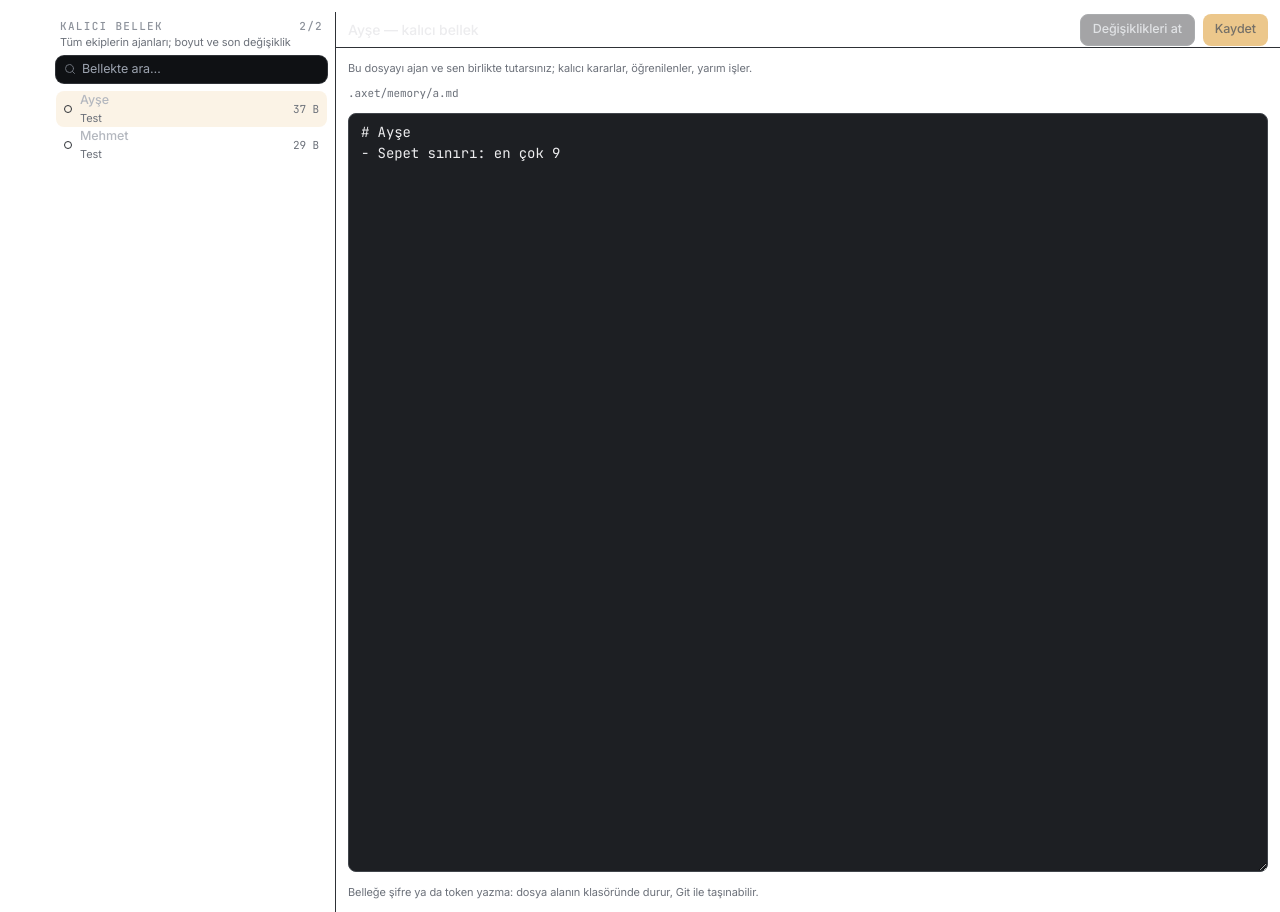
Test case: MemoryView › bellekte arama: eşleşen satır ve ajan; tık o ajanı seçiyor; sonuç yoksa söylüyor
In the search field labelled "Bellekte ara": (200, 69) [82, 60, 319, 79], type "pdf"
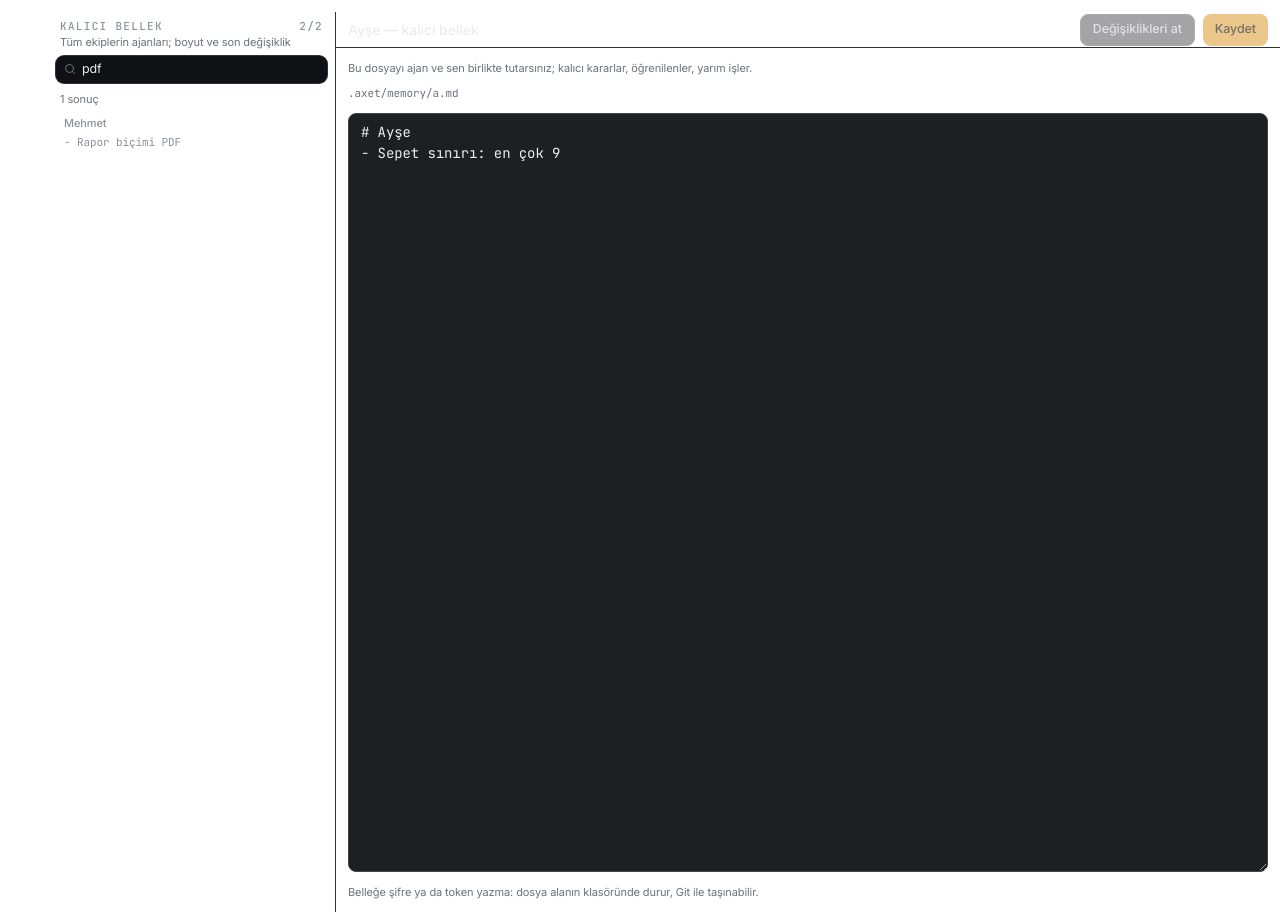
Now the button "Mehmet - Rapor biçimi PDF" is shown
Click the button "Mehmet - Rapor biçimi PDF": (85, 123) [56, 111, 327, 154]
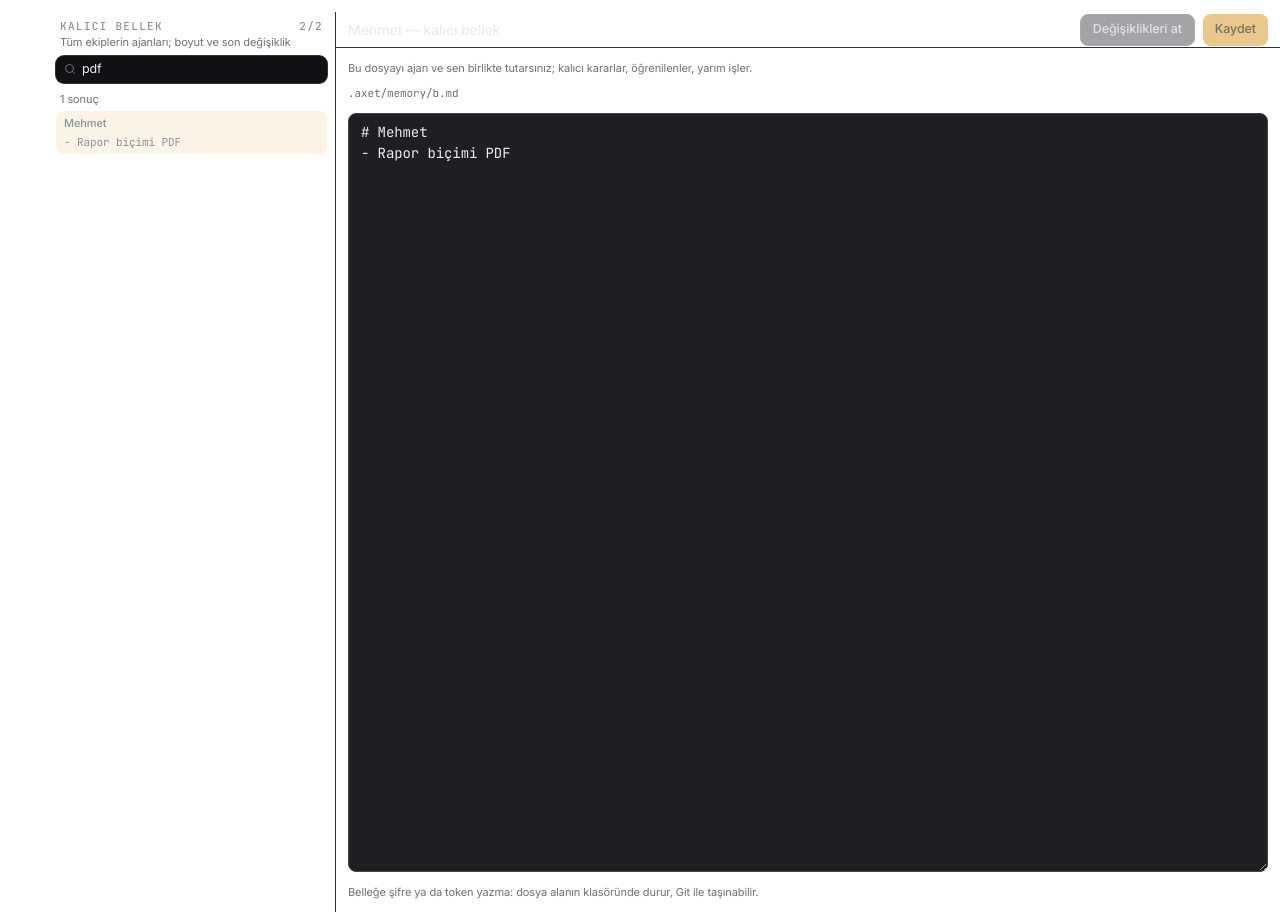
Replace the text in the search field named "Bellekte ara" with "yok-böyle-bir-şey": (200, 69) [82, 60, 319, 79]
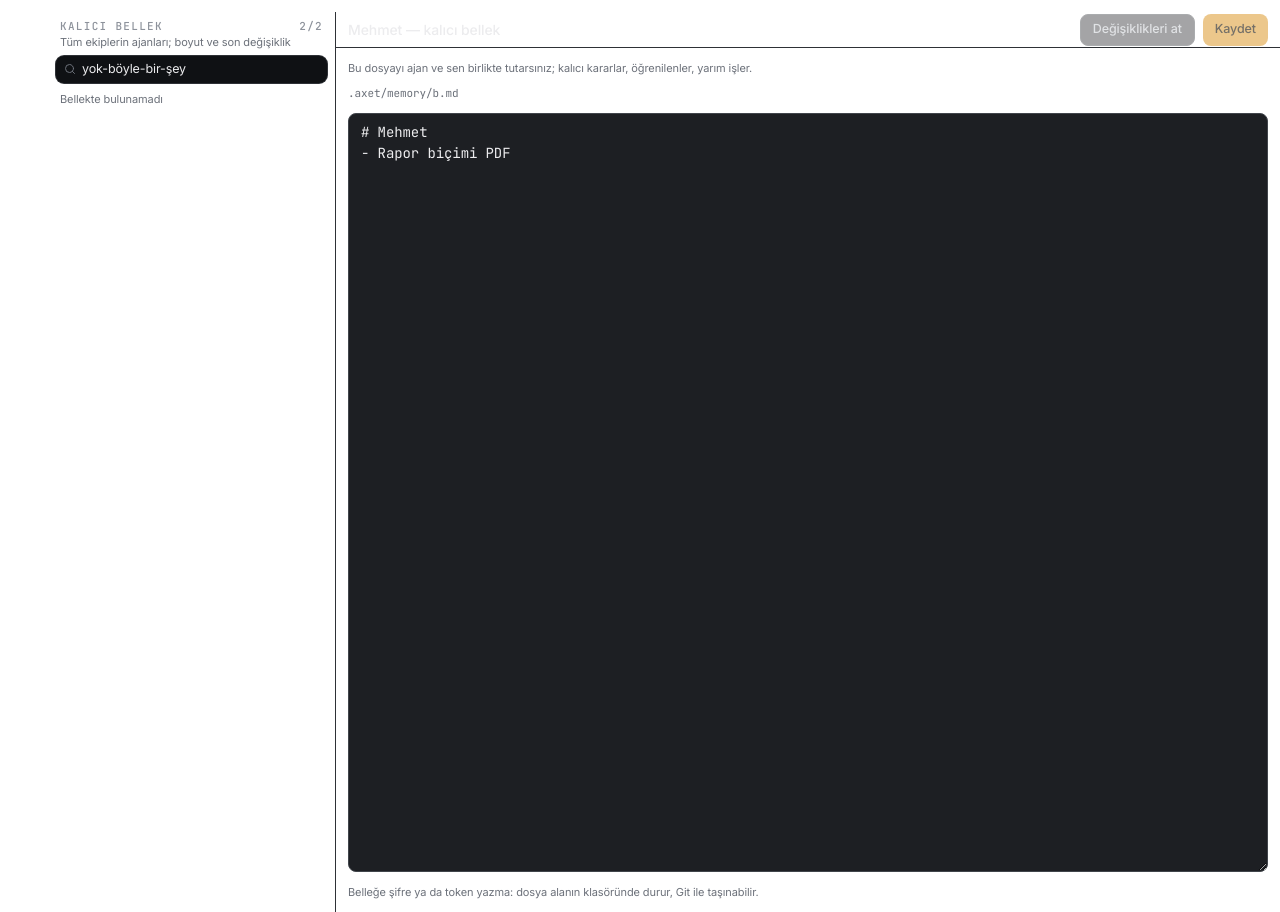
Now the text "Bellekte bulunamadı" is shown, box [60, 92, 163, 106]
